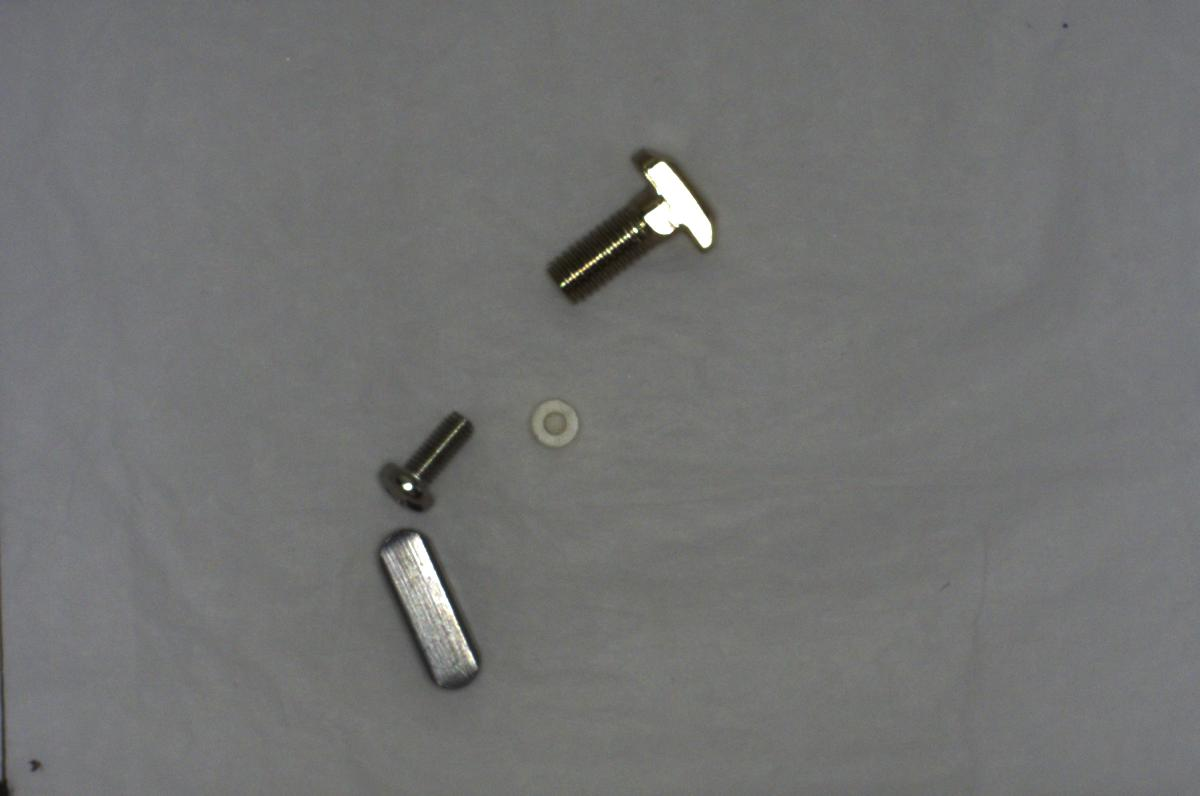Keybar: (362, 521, 488, 700)
Plastic cushion pillar: (514, 389, 592, 456)
Round head screw: (371, 409, 474, 519)
T-shaped screw: (517, 142, 733, 309)
